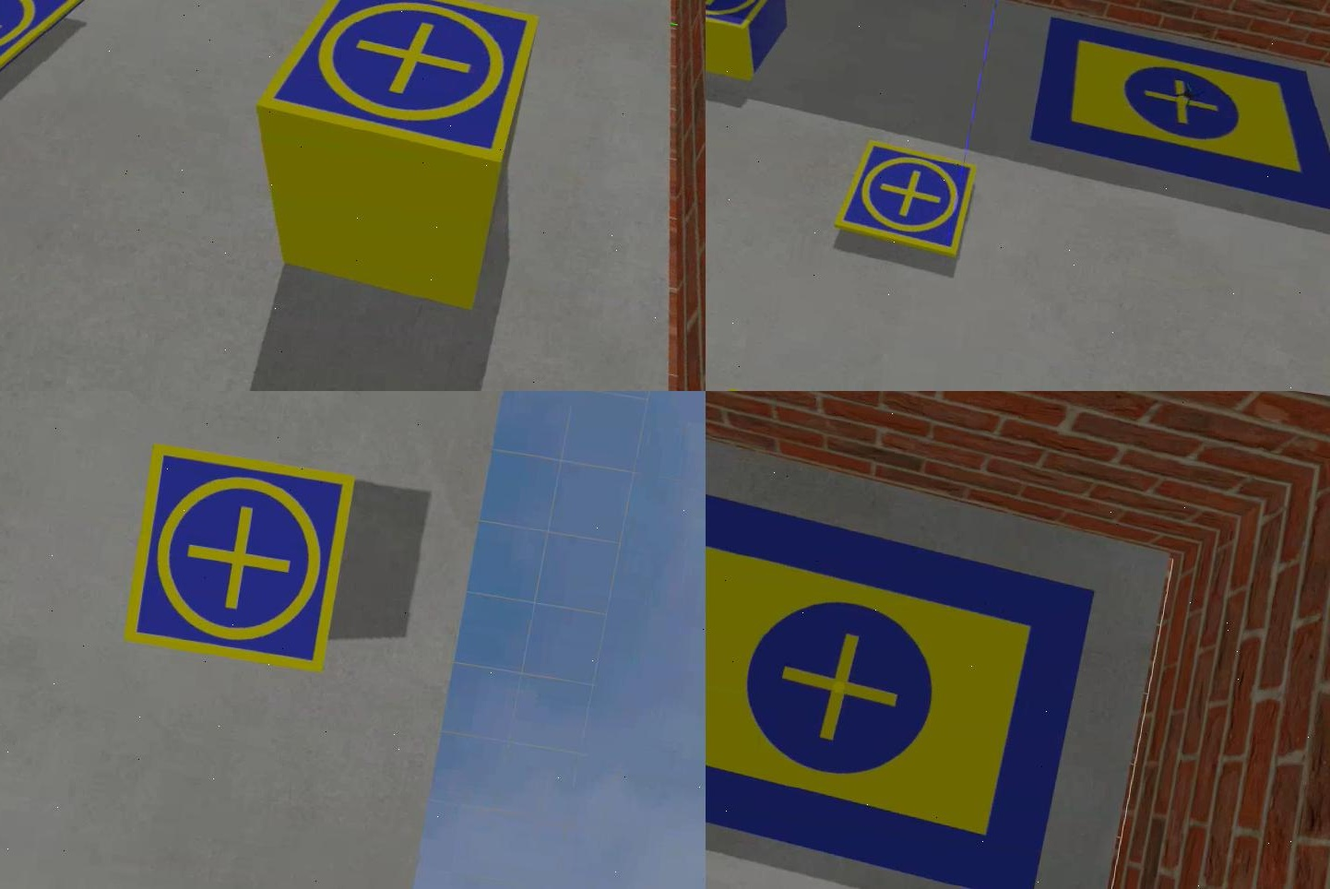large_base: (705, 476, 1100, 889), (1021, 17, 1328, 213)
small_base: (118, 441, 359, 675), (251, 1, 540, 169), (831, 137, 980, 262), (0, 1, 87, 105), (705, 1, 786, 38)
